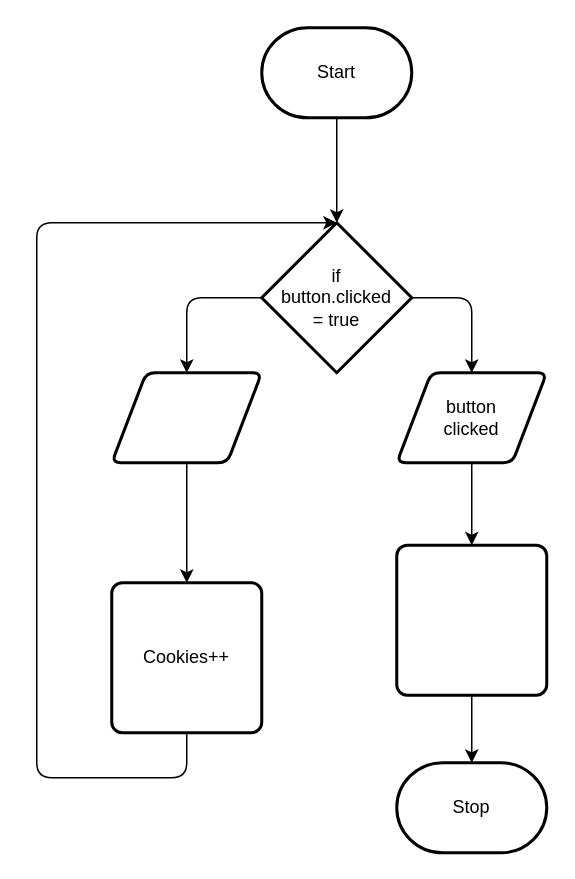
Image size: 575x879. Some labels were removed from this diagram. The box of each missing label's shape, as (x1, y1, x2, y2) in pixels:
Cookies = 0: (394, 543, 548, 696)
Image clicked: (110, 370, 262, 464)
